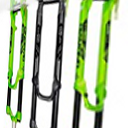Fork: (5, 2, 128, 128)
